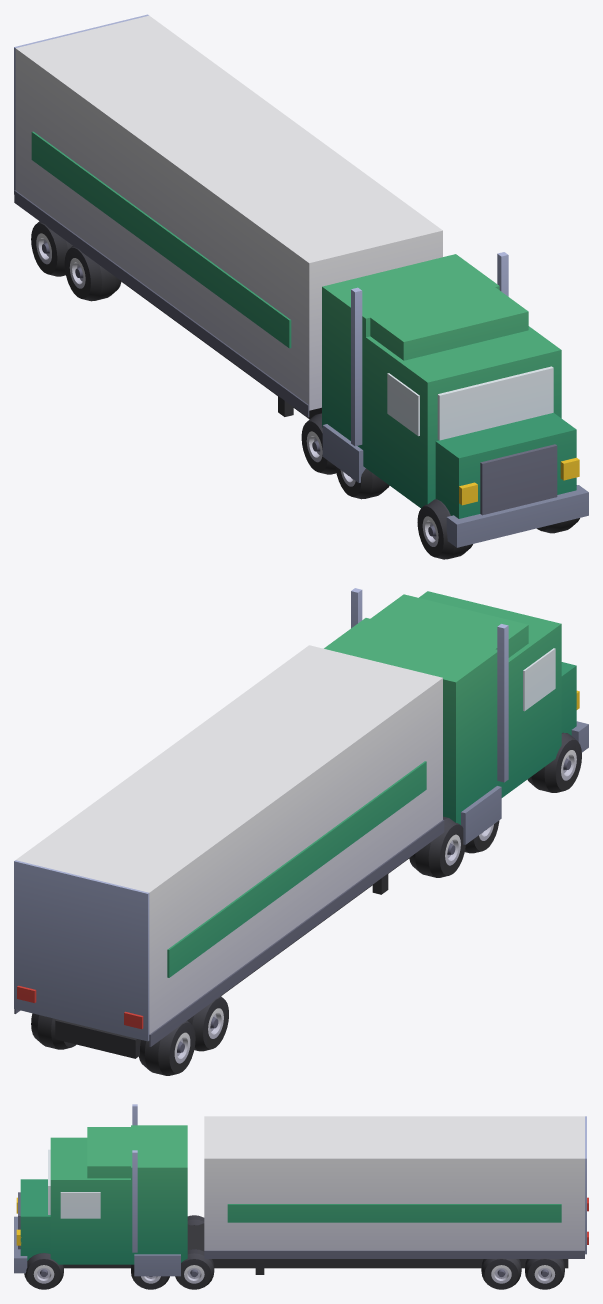
The model's file is semi-C.glb.
The picture shows the model from 3 angles, top to bottom: view 1: azimuth 30°, elevation 25°; view 2: azimuth 150°, elevation 25°; view 3: azimuth 270°, elevation 25°; orthographic projection. The views are drawn at different scales.
Parts seen in each view (by area): view 1: body, wheel--3.0-l, wheel-3.85-l, wheel--3.65-l, wheel-1.6-l, wheel-2.25-l; view 2: body, wheel--3.65-l, wheel-1.6-l, wheel-3.85-l, wheel--3.0-l, wheel--3.65-r; view 3: body, wheel-1.6-r, wheel-3.85-r, wheel--3.0-r, wheel--3.65-r, wheel-2.25-r.
Part boxes in pixels (box(x1,y1,x2,y2)): body: box(14, 14, 588, 547); wheel--3.0-l: box(64, 246, 121, 301); wheel-3.85-l: box(417, 499, 472, 559); wheel--3.65-l: box(31, 221, 72, 276); wheel-1.6-l: box(301, 413, 336, 474); wheel-2.25-l: box(335, 466, 389, 499); body: box(14, 588, 588, 1058); wheel--3.65-l: box(139, 1020, 195, 1075); wheel-1.6-l: box(409, 816, 465, 877); wheel-3.85-l: box(527, 732, 581, 792); wheel--3.0-l: box(187, 996, 228, 1051); wheel--3.65-r: box(31, 1013, 76, 1049); body: box(14, 1104, 588, 1276); wheel-1.6-r: box(175, 1249, 214, 1289); wheel-3.85-r: box(24, 1253, 63, 1289); wheel--3.0-r: box(481, 1258, 521, 1289); wheel--3.65-r: box(525, 1258, 564, 1289); wheel-2.25-r: box(131, 1264, 169, 1289).
Size of the model in its own units: 1.72 by 2.35 by 8.61.
Materials: 1 (1 with a texture image).
